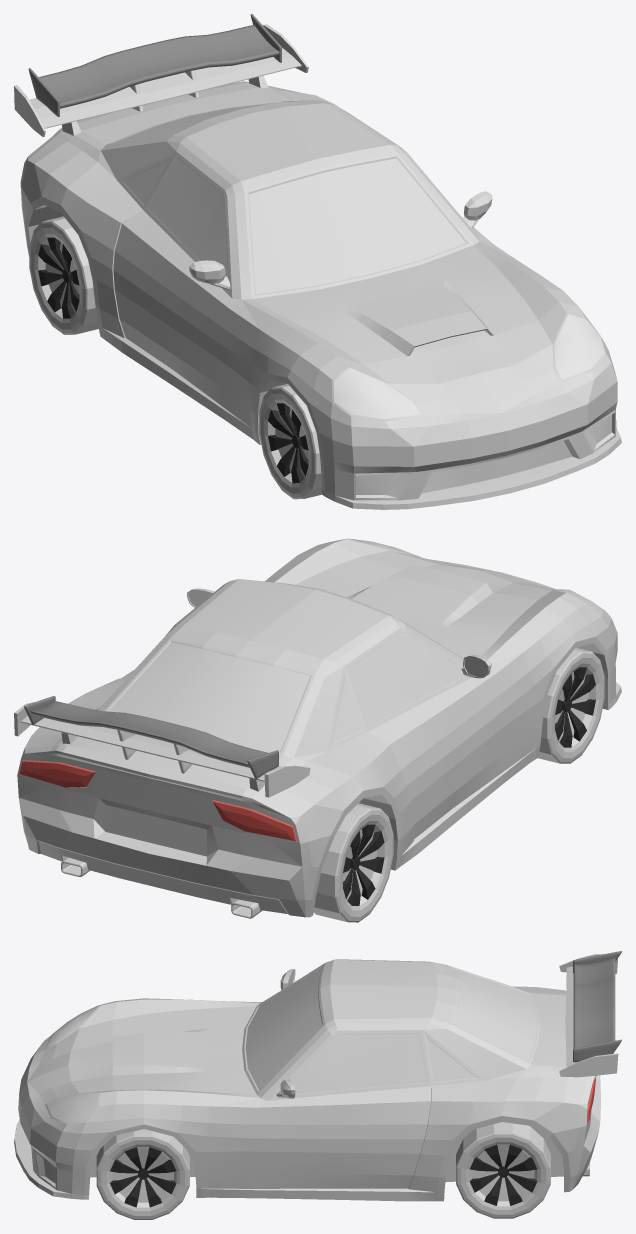
The model's file is racingcarv2 (1).fbx.
3 renders of one model, top to bottom at view 1: azimuth 30°, elevation 25°; view 2: azimuth 150°, elevation 25°; view 3: azimuth 270°, elevation 25°, orthographic. The views are drawn at different scales.
Parts seen in each view (by area): view 1: Body, haub, Glass, roofv, Universal spoiler 1, front lights, spoilerbody, WheelBL4, WheelFL2, rimbl4, rimfl2, sideparts.001 (+1 smaller); view 2: Body, Glass, haub, roofv, WheelBL4, Universal spoiler 1, WheelFL2, back light, spoilerbody, rimbl4, rimfl2, sideparts.001 (+1 smaller); view 3: Body, haub, Glass, roofv, wheelbl3, WheelFL1, Universal spoiler 1, rimbl3, rimfl1, front lights, sideparts.001, sideparts (+1 smaller).
Boxes of the visible parts, box(x1,y1,x2,y2) form: Body: box(20, 81, 621, 509); haub: box(242, 241, 566, 425); Glass: box(113, 102, 606, 421); roofv: box(166, 100, 406, 194); Universal spoiler 1: box(39, 25, 279, 108); front lights: box(334, 314, 604, 419); spoilerbody: box(29, 48, 301, 128); WheelBL4: box(29, 216, 98, 334); WheelFL2: box(259, 384, 322, 499); rimbl4: box(38, 237, 79, 318); rimfl2: box(268, 403, 308, 483); sideparts.001: box(14, 24, 308, 137); Body: box(17, 539, 621, 918); Glass: box(109, 538, 605, 751); haub: box(275, 539, 566, 659); roofv: box(164, 579, 399, 676); WheelBL4: box(314, 803, 393, 922); Universal spoiler 1: box(30, 701, 268, 767); WheelFL2: box(537, 647, 604, 763); back light: box(19, 760, 296, 841); spoilerbody: box(21, 716, 281, 781); rimbl4: box(343, 824, 384, 905); rimfl2: box(555, 667, 595, 747); sideparts.001: box(14, 702, 310, 797); Body: box(14, 963, 601, 1201); haub: box(27, 999, 260, 1108); Glass: box(45, 967, 537, 1124); roofv: box(318, 959, 457, 1033); wheelbl3: box(456, 1122, 550, 1218); WheelFL1: box(96, 1129, 189, 1219); Universal spoiler 1: box(573, 958, 615, 1048); rimbl3: box(469, 1144, 537, 1205); rimfl1: box(110, 1147, 176, 1207); front lights: box(46, 1005, 99, 1122); sideparts.001: box(559, 954, 618, 1077); sideparts: box(573, 951, 621, 1062).
Size of the model in its own units: 142 by 95.86 by 297.
